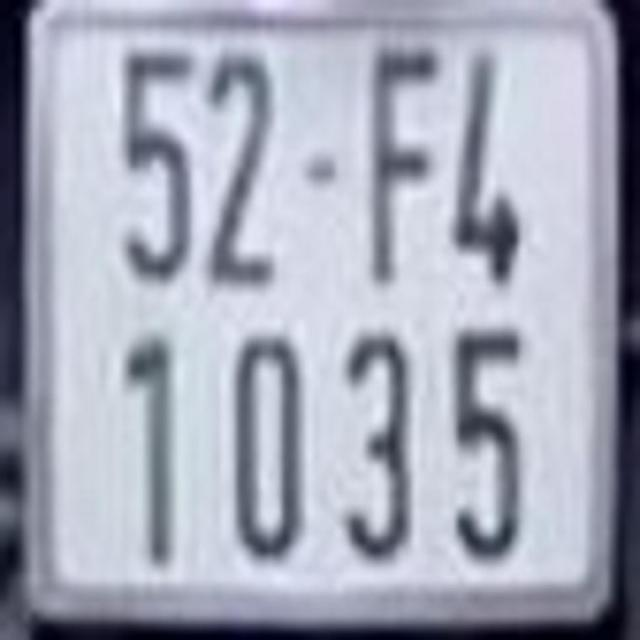0: (240, 332, 306, 556)
1: (128, 338, 176, 560)
2: (203, 55, 279, 280)
3: (348, 332, 412, 558)
4: (453, 54, 519, 286)
5: (452, 332, 528, 566), (122, 50, 194, 285)
F: (370, 44, 442, 290)
